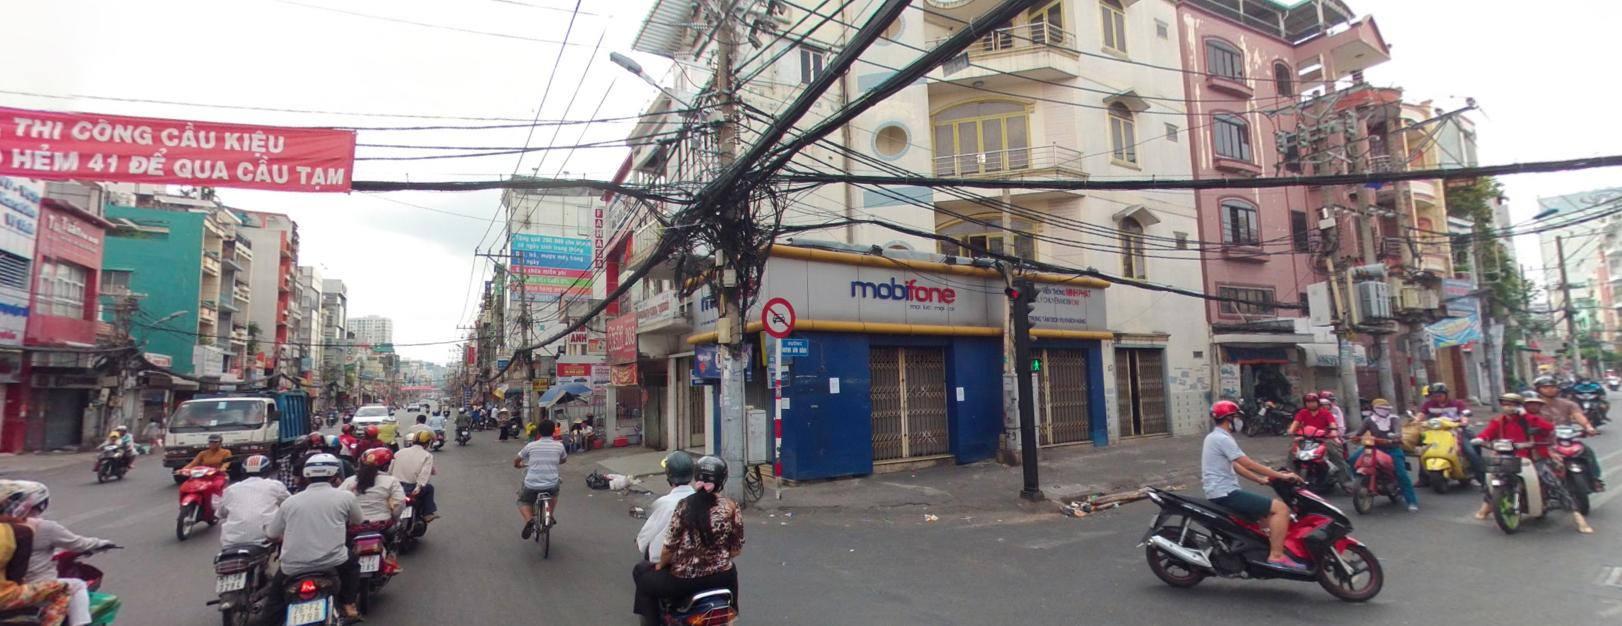Cam con lai: (761, 296, 798, 336)
